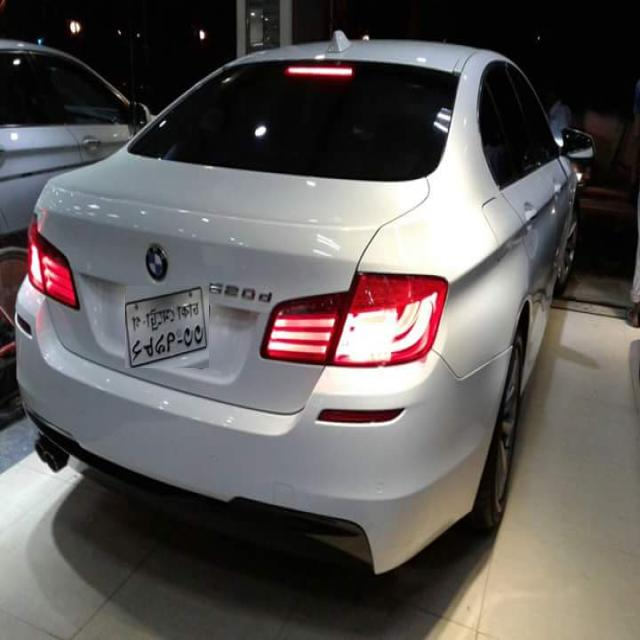numberplate: (125, 286, 209, 368)
